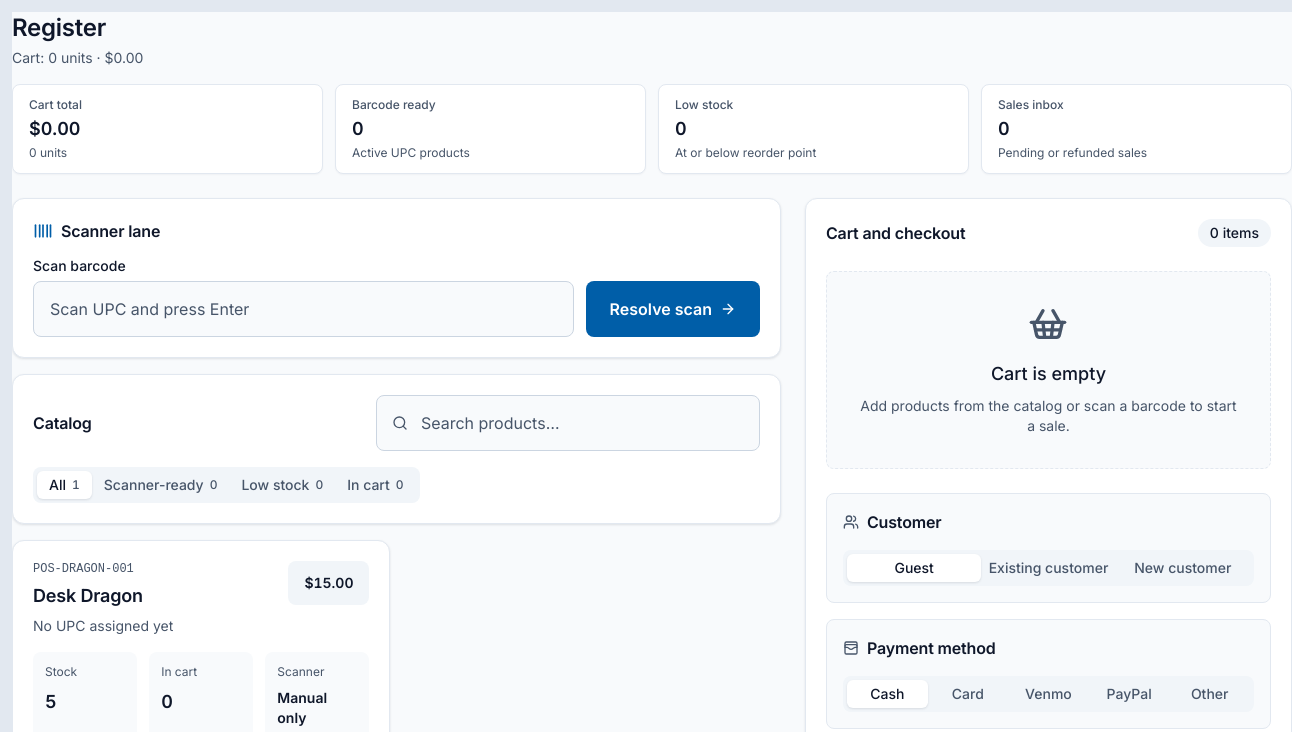
Test: POSPage › shows barcode scan errors without mutating the cart
Expected: the heading "Desk Dragon" is shown, [33,585,143,606]
Type "000000000000" into the field labelled "Scan barcode" at [303, 309], box [33,281,574,337]
Then press Enter
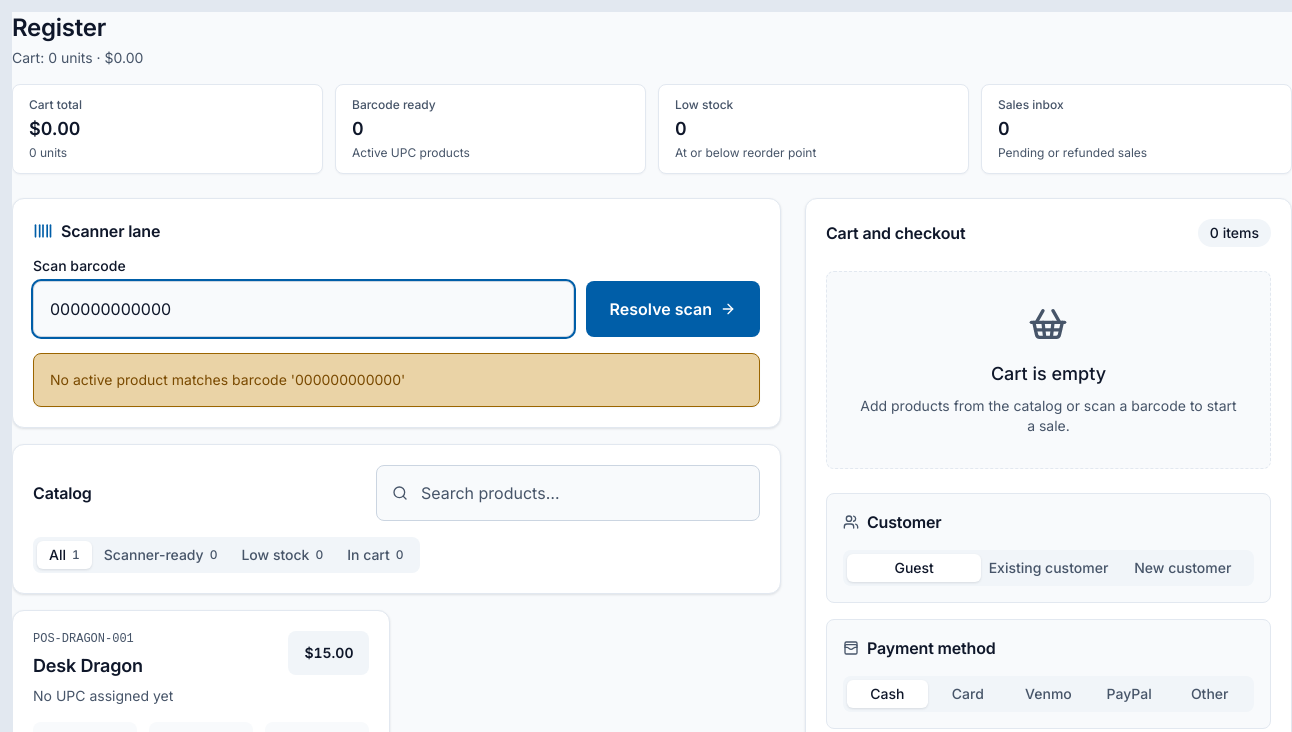
Expected: the text "Cart is empty" is shown, [991,363,1106,384]
Now the text "No active product matches barcode '000000000000'" is shown, box [50,371,405,388]
